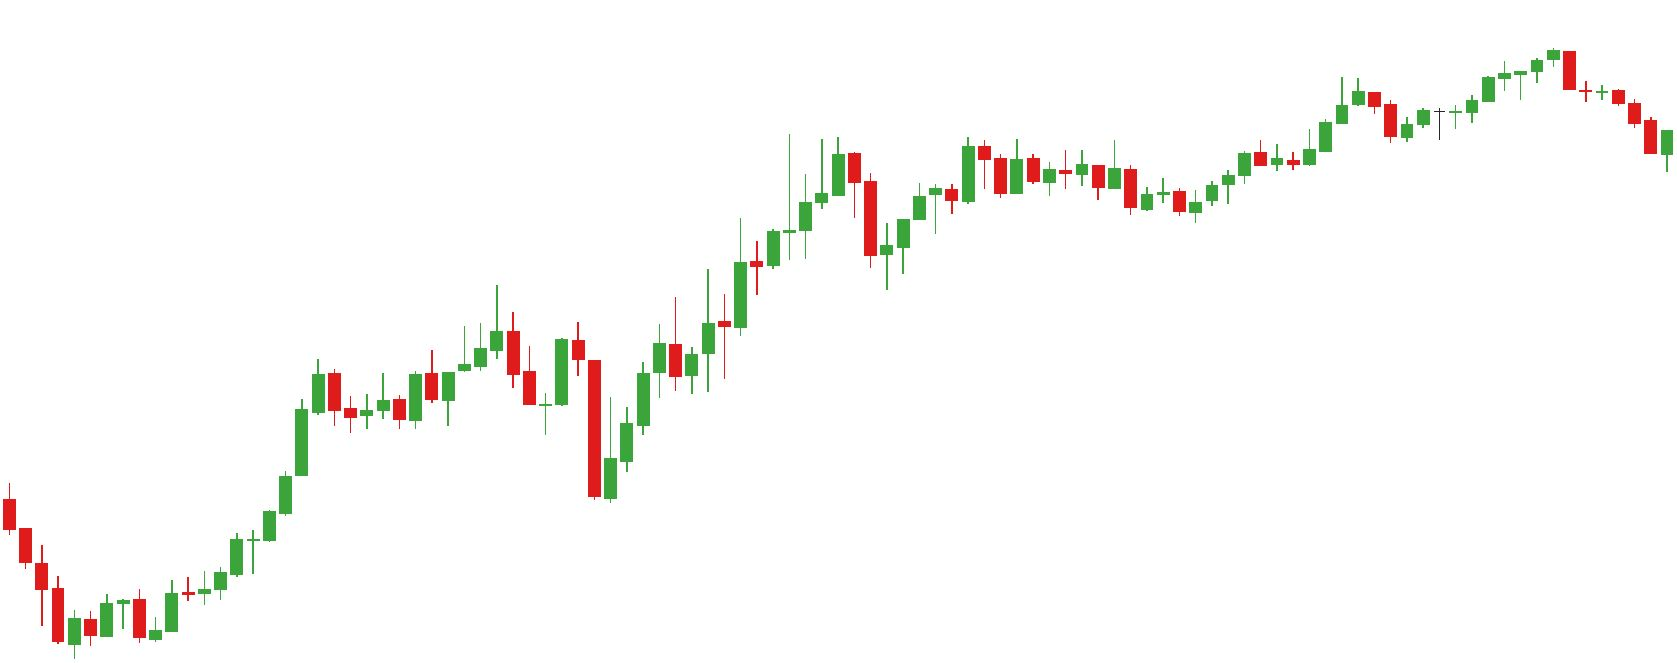buy: (436, 336, 637, 503), (780, 168, 896, 299)
